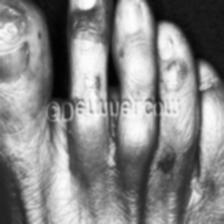Toxin: (1, 2, 31, 45), (156, 151, 176, 177)
